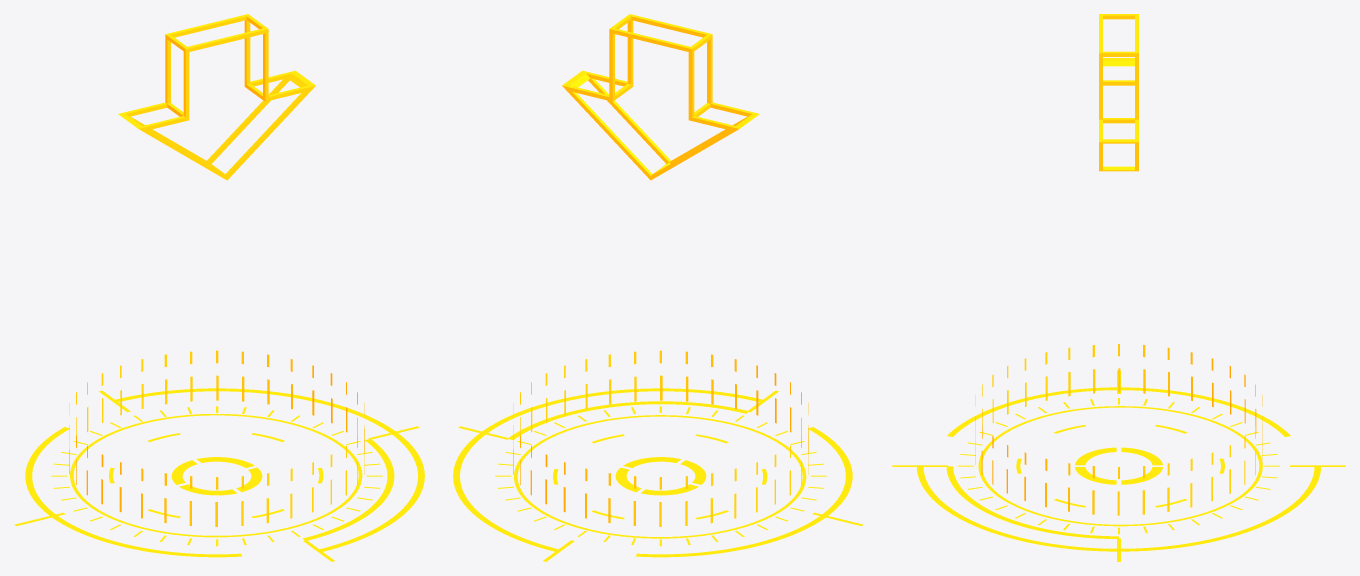
The model's file is assmbly-sign.glb.
3 views of the same model, side by side, from view 1: azimuth 30°, elevation 25°; view 2: azimuth 150°, elevation 25°; view 3: azimuth 270°, elevation 25° (orthographic). The views are drawn at different scales.
Visible parts, largest first — view 1: 箭头5.006, 箭头5.002, 箭头5, 箭头5.001, 箭头5.004, 箭头5.003, 箭头5.005; view 2: 箭头5.006, 箭头5.002, 箭头5, 箭头5.001, 箭头5.004, 箭头5.003, 箭头5.005; view 3: 箭头5.002, 箭头5.006, 箭头5, 箭头5.001, 箭头5.004, 箭头5.003, 箭头5.005.
Boxes of the visible parts, box(x1,y1,x2,y2) form: 箭头5.006: box(118, 14, 315, 180); 箭头5.002: box(14, 390, 419, 561); 箭头5: box(25, 427, 394, 557); 箭头5.001: box(113, 388, 424, 552); 箭头5.004: box(69, 375, 364, 526); 箭头5.003: box(171, 457, 262, 495); 箭头5.005: box(69, 350, 364, 489); 箭头5.006: box(562, 14, 759, 180); 箭头5.002: box(458, 390, 863, 561); 箭头5: box(507, 401, 852, 557); 箭头5.001: box(453, 388, 764, 551); 箭头5.004: box(513, 375, 808, 526); 箭头5.003: box(615, 457, 706, 495); 箭头5.005: box(513, 350, 808, 489); 箭头5.002: box(892, 370, 1345, 561); 箭头5.006: box(1099, 14, 1138, 171); 箭头5: box(946, 387, 1290, 538); 箭头5.001: box(917, 466, 1321, 551); 箭头5.004: box(975, 368, 1262, 515); 箭头5.003: box(1075, 447, 1162, 484); 箭头5.005: box(975, 344, 1262, 478).
Size of the model in its own units: 57.85 by 60.88 by 57.85.
